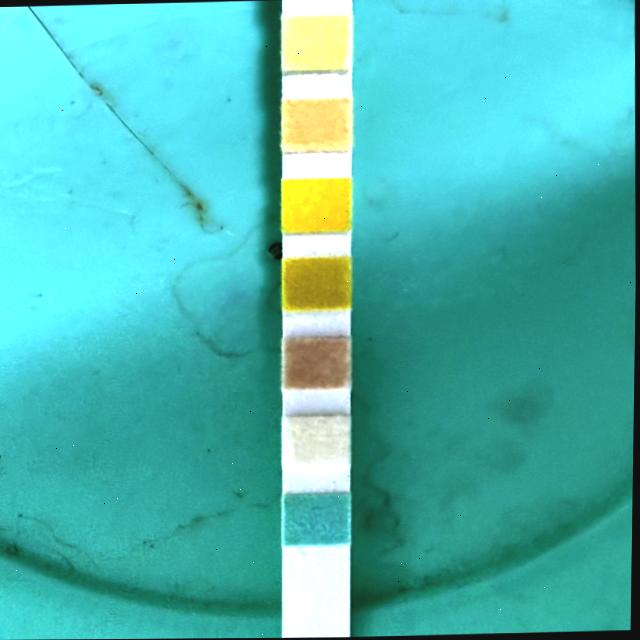Bilirubin: (285, 415, 349, 462)
Blood: (281, 179, 349, 231)
Glucose: (285, 495, 348, 542)
Ketone: (283, 338, 351, 386)
Protein: (280, 15, 349, 67)
SpGravity: (282, 256, 350, 308)
pH: (281, 99, 349, 148)
